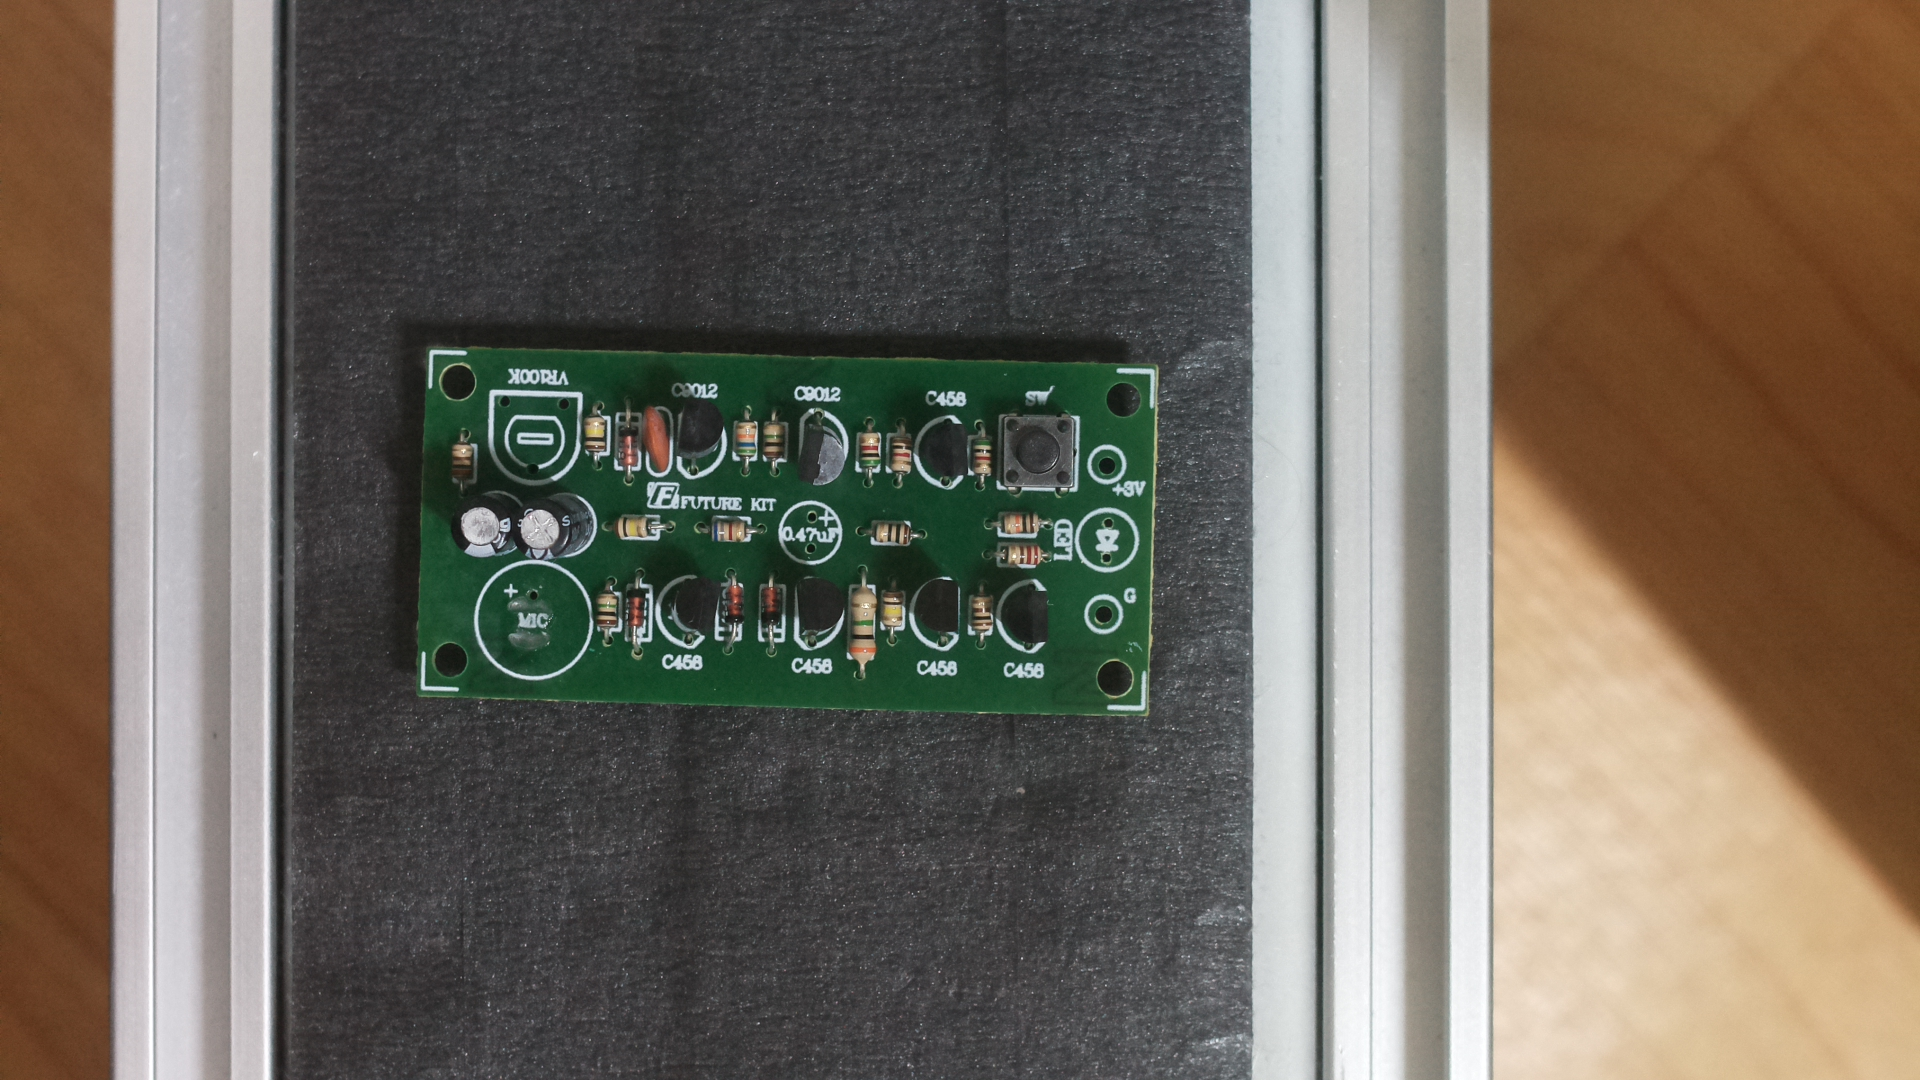A_Missing_part: (397, 324, 1174, 737)
